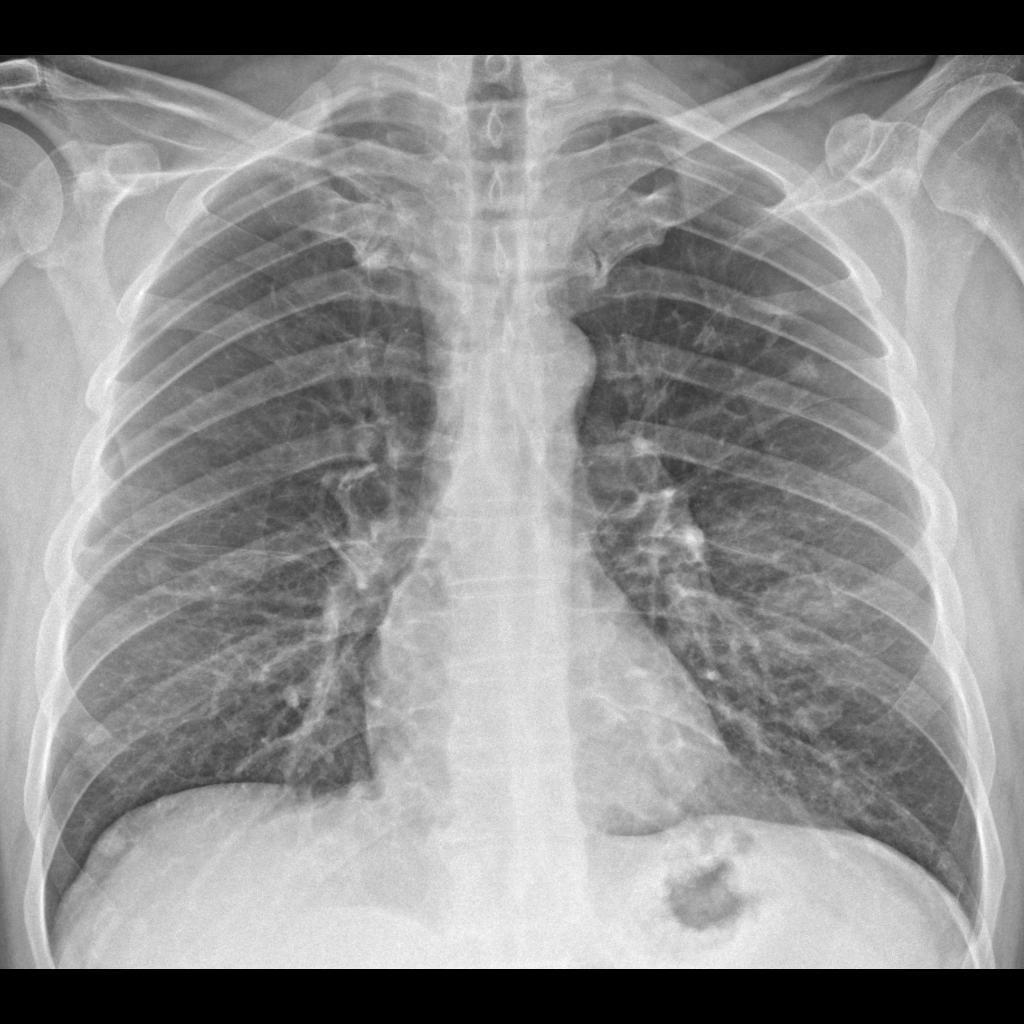Nodule: (758, 556, 849, 657), (93, 818, 137, 871), (787, 347, 824, 395)
